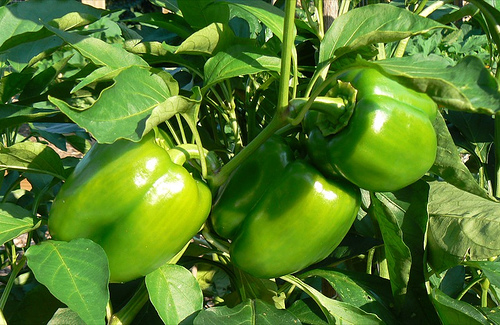capsicum: (47, 118, 214, 292), (206, 132, 362, 280), (310, 64, 438, 192)
